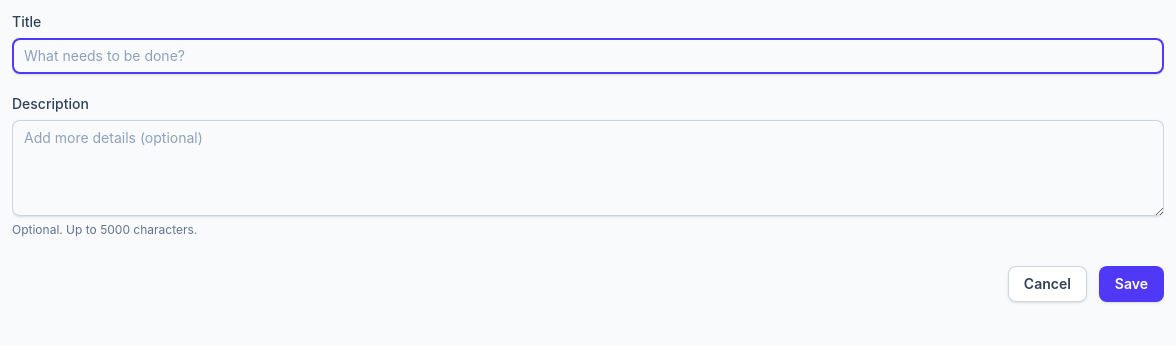
Test: TaskForm › requires a title
Click the button "Save".
click(1131, 284)  # box [1099,266,1164,302]
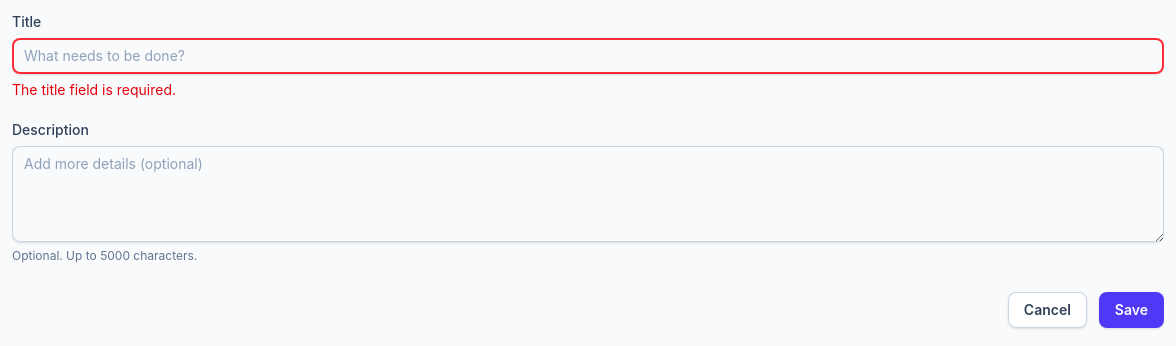
Now the text "The title field is required." is shown, box [12,81,176,98]
